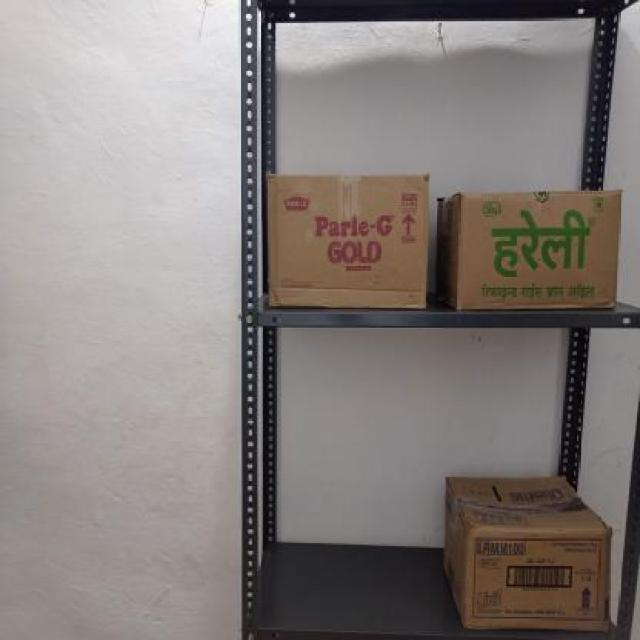box: (266, 174, 426, 306), (458, 193, 620, 307), (463, 527, 612, 627)
